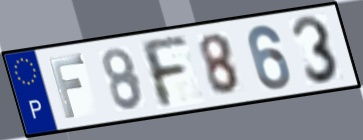3: (291, 13, 342, 86)
6: (245, 22, 293, 92)
8: (197, 31, 243, 99), (100, 45, 145, 112)
F: (135, 34, 191, 111), (46, 52, 87, 121)
